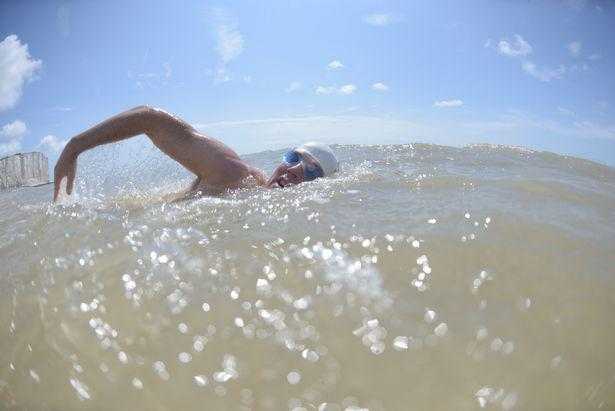human: (52, 102, 339, 210)
